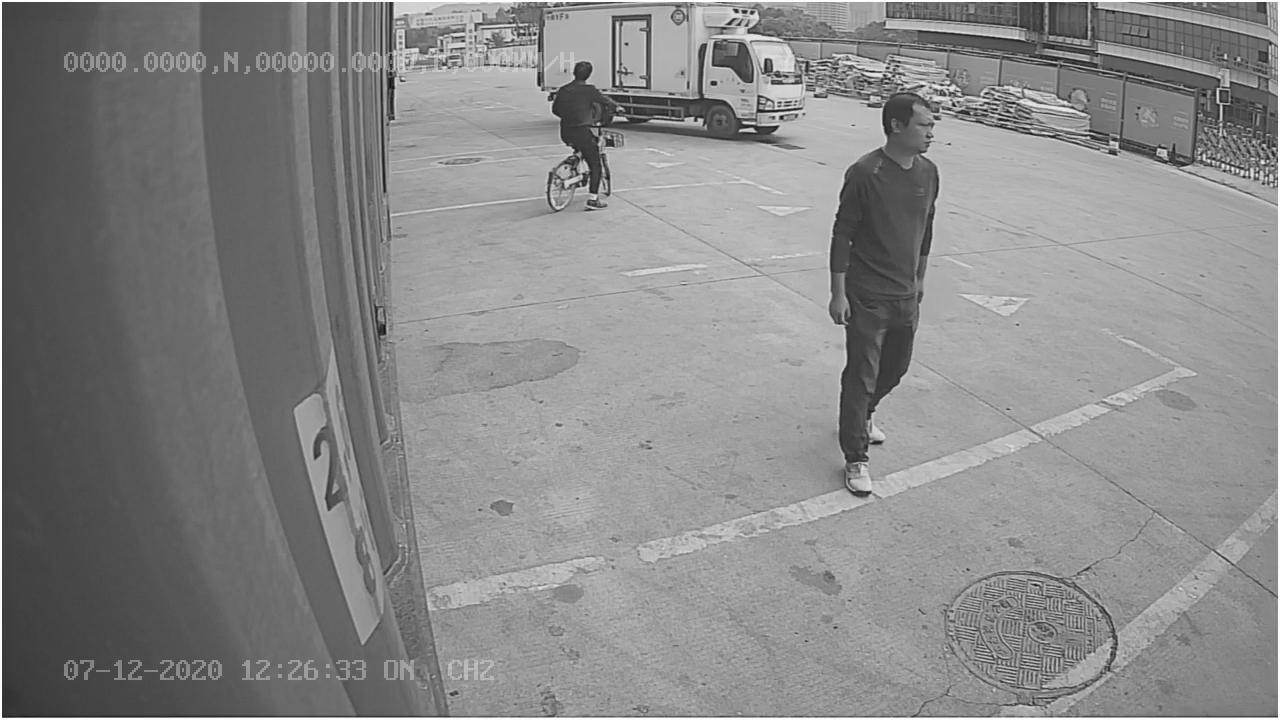person: (820, 88, 957, 499)
